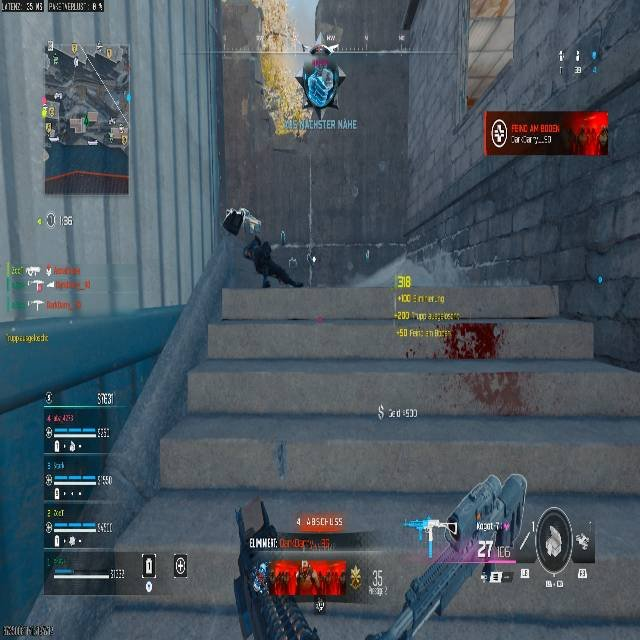head: (310, 44, 332, 57)
player: (222, 207, 309, 289), (294, 44, 346, 116), (243, 235, 303, 287)
